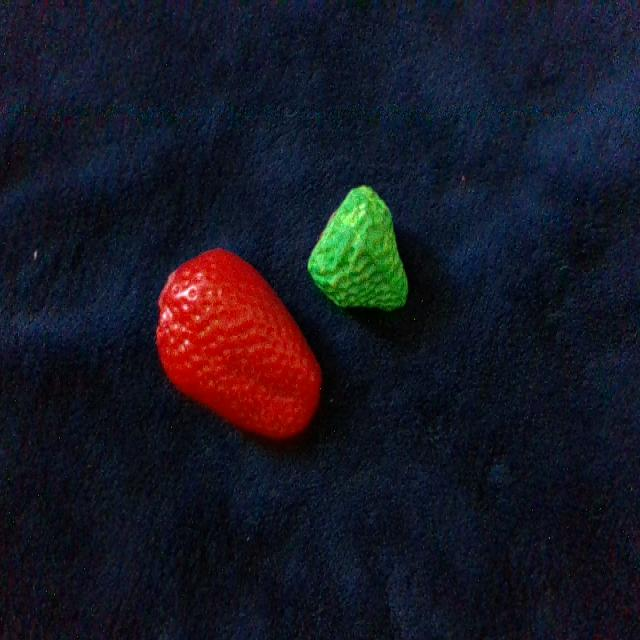grande_roja: (156, 249, 321, 437)
verde: (309, 187, 407, 309)
